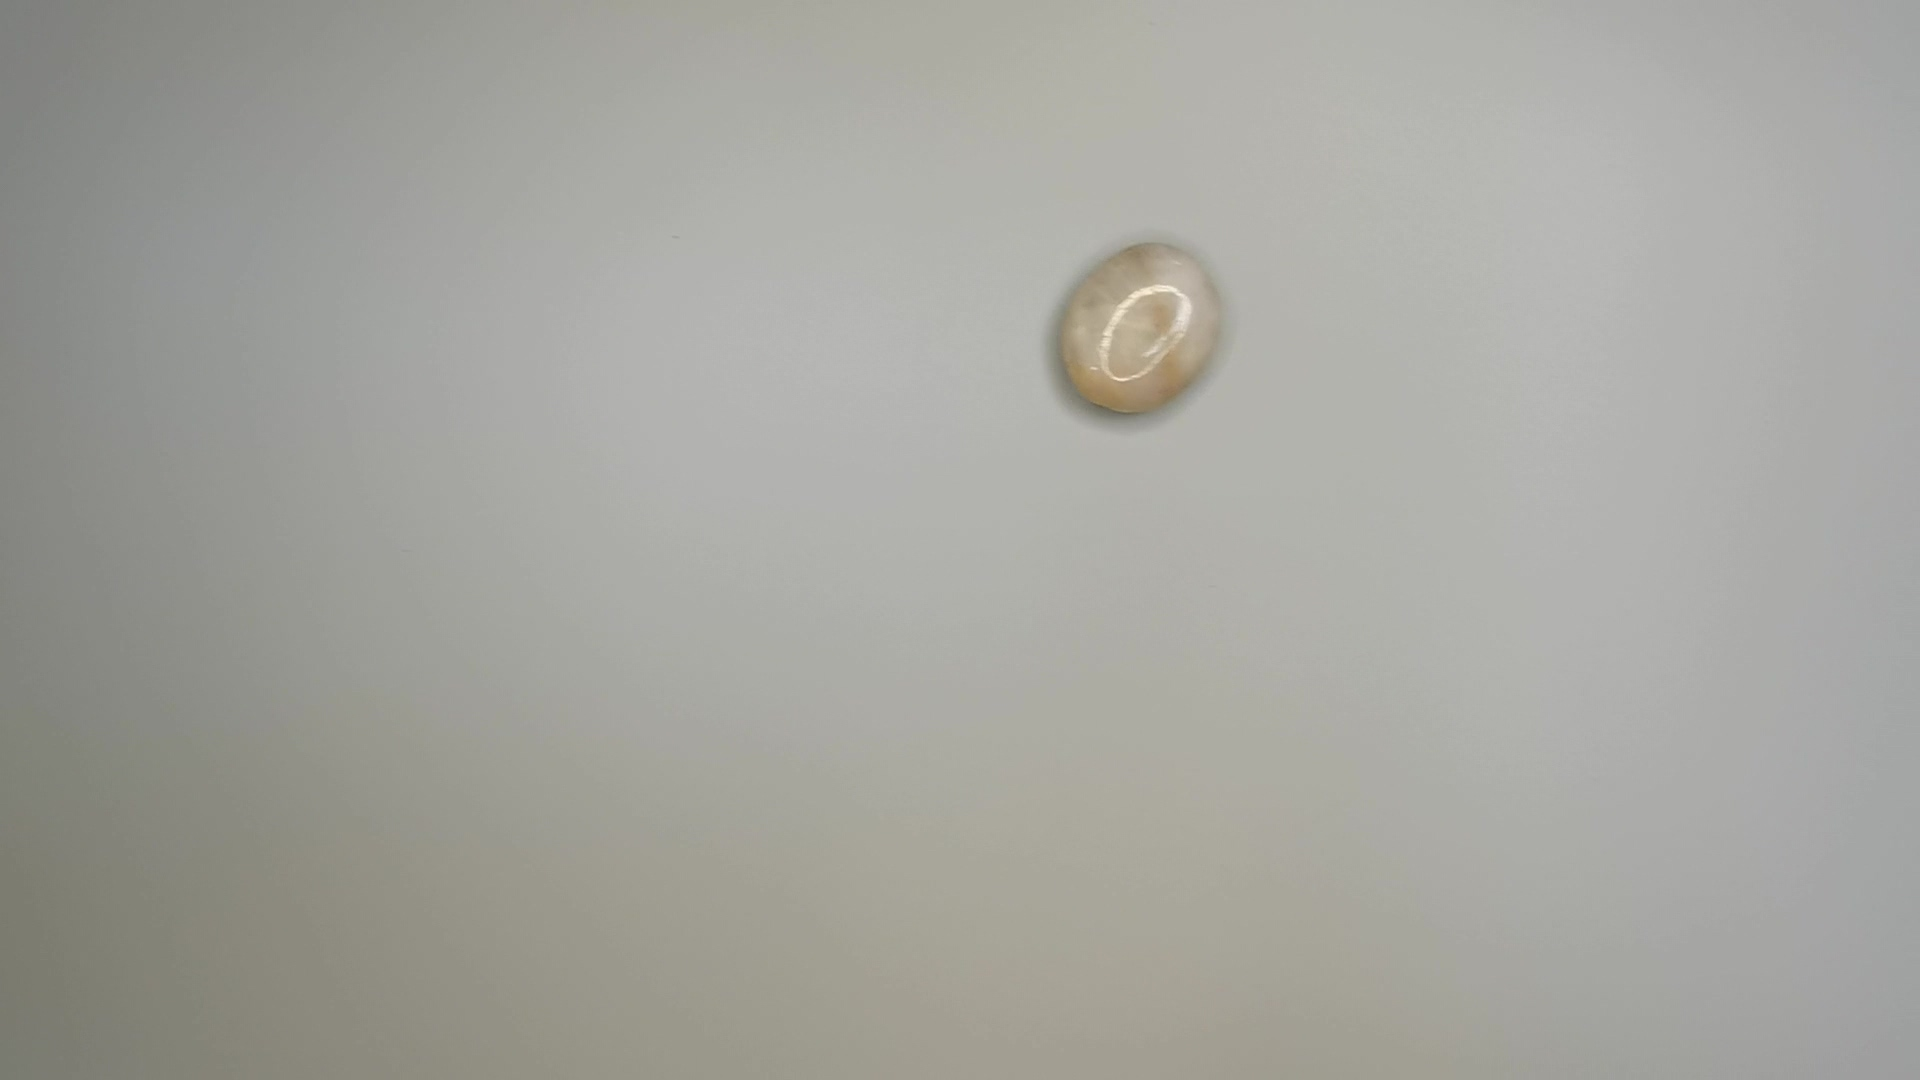ceramic: (1048, 237, 1234, 423)
